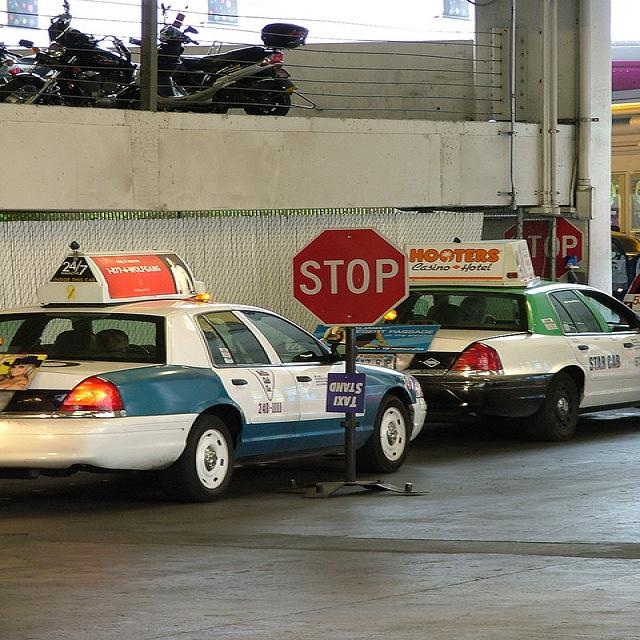motor: (117, 4, 310, 118), (0, 4, 143, 106)
